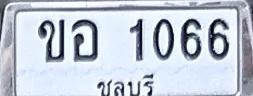0: (152, 18, 174, 60)
1: (128, 18, 144, 61)
6: (208, 18, 229, 60), (180, 18, 201, 60)
A02: (38, 18, 64, 62)
A43: (71, 18, 98, 62)
CBI: (96, 72, 159, 96)
